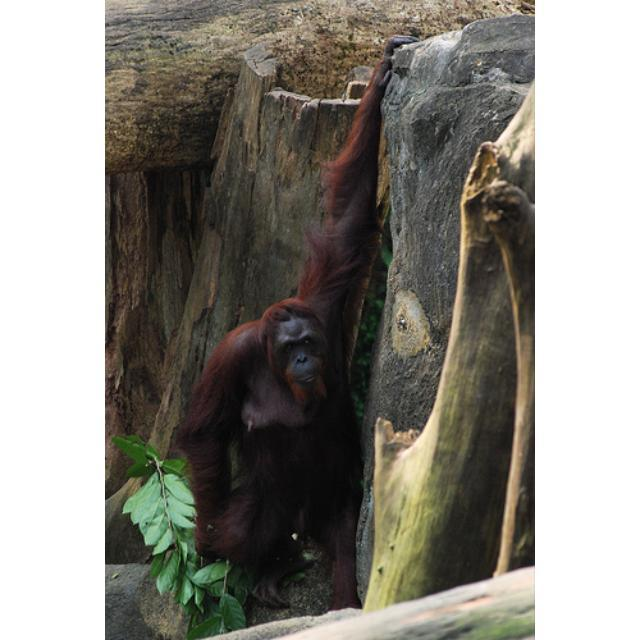Orangutan: (194, 210, 374, 598)
